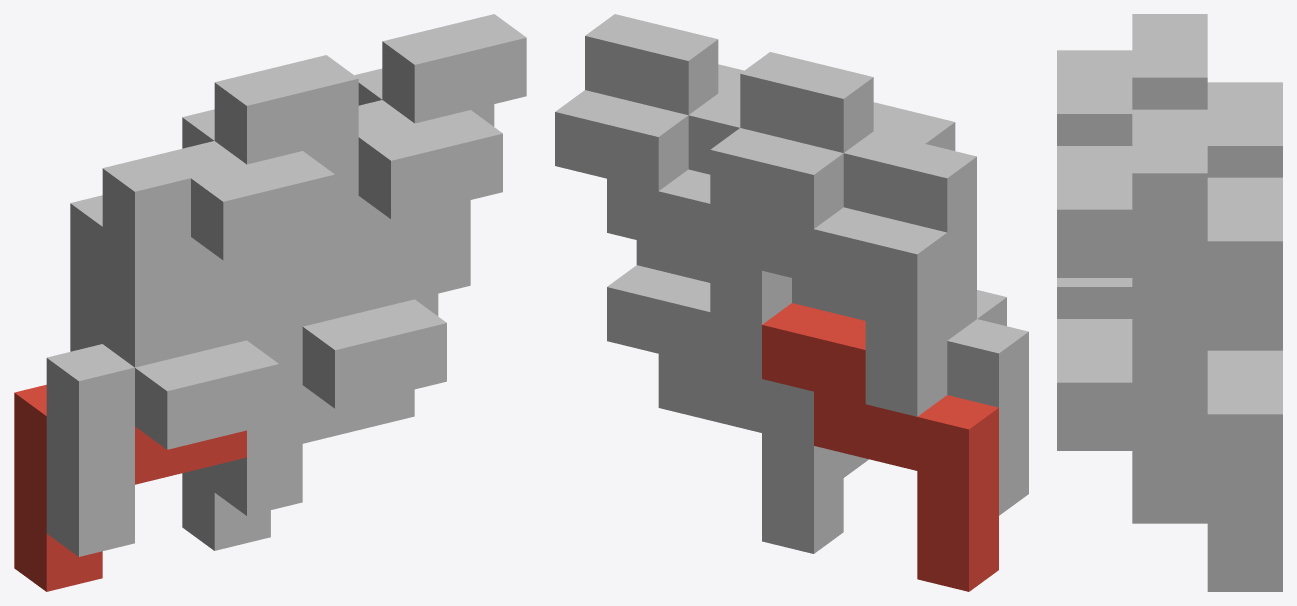
File: tiling.obj
3 views of the same model, side by side, from view 1: azimuth 30°, elevation 25°; view 2: azimuth 150°, elevation 25°; view 3: azimuth 270°, elevation 25° (orthographic). The views are drawn at different scales.
Visible parts, largest first — view 1: copy_1_domain_4, copy_1_domain_2, copy_1_domain_8, copy_1_domain_6, copy_1_domain_1, copy_1_domain_3, copy_1_domain_5, copy_1_domain_7; view 2: copy_1_domain_3, copy_1_domain_1, copy_1_domain_7, copy_1_domain_4, copy_1_domain_5, copy_1_domain_8, copy_1_domain_2, copy_1_domain_6; view 3: copy_1_domain_5, copy_1_domain_8, copy_1_domain_7, copy_1_domain_6, copy_1_domain_4, copy_1_domain_3, copy_1_domain_2.
Boxes of the visible parts, x1,y1,x2,y2 form: copy_1_domain_4: (102,55,358,367); copy_1_domain_2: (46,268,302,556); copy_1_domain_8: (302,14,526,326); copy_1_domain_6: (214,227,470,515); copy_1_domain_1: (14,384,246,591); copy_1_domain_3: (70,109,302,351); copy_1_domain_5: (182,293,438,550); copy_1_domain_7: (354,68,494,254); copy_1_domain_3: (710,128,947,416); copy_1_domain_1: (762,303,998,591); copy_1_domain_7: (555,90,791,378); copy_1_domain_4: (740,52,976,340); copy_1_domain_5: (607,265,843,553); copy_1_domain_8: (585,14,743,174); copy_1_domain_2: (792,278,1028,515); copy_1_domain_6: (636,240,868,477); copy_1_domain_5: (1132,350,1282,591); copy_1_domain_8: (1057,109,1207,277); copy_1_domain_7: (1132,177,1282,350); copy_1_domain_6: (1057,319,1207,523); copy_1_domain_4: (1057,14,1207,145); copy_1_domain_3: (1207,82,1282,177); copy_1_domain_2: (1057,278,1132,318).
Size of the model in its own units: 8 by 8 by 3.
